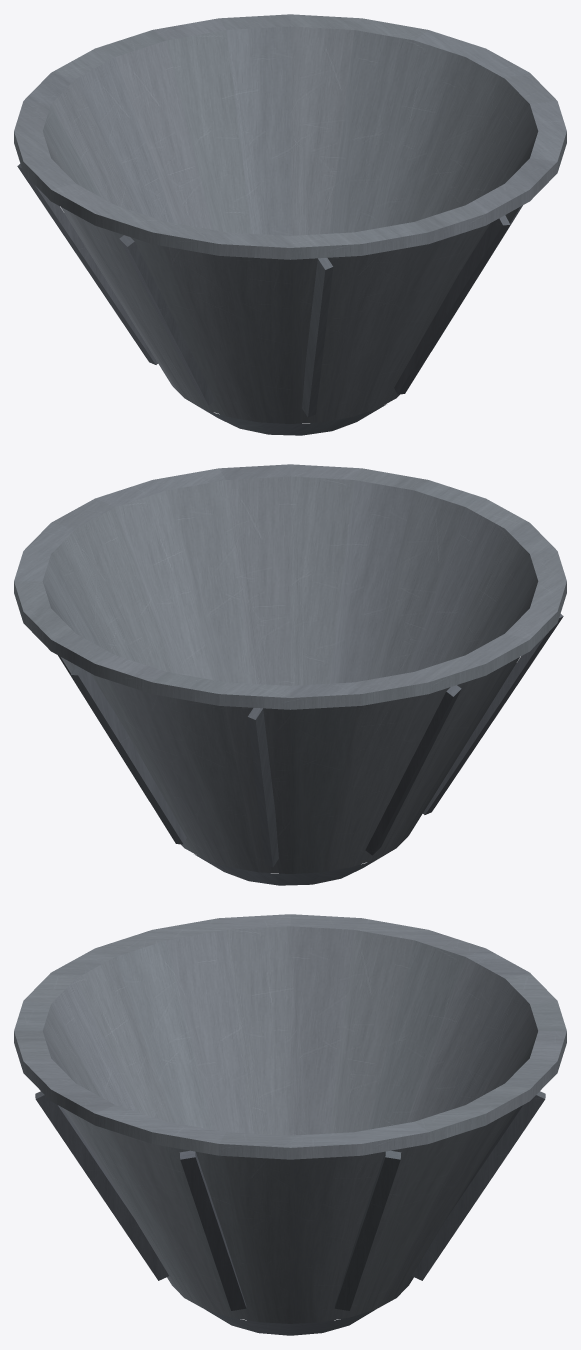
File: hopper.glb
The picture shows the model from 3 angles, top to bottom: view 1: azimuth 30°, elevation 25°; view 2: azimuth 150°, elevation 25°; view 3: azimuth 270°, elevation 25°; orthographic projection.
Visible parts, largest first — view 1: hopper_body; view 2: hopper_body; view 3: hopper_body.
Boxes of the visible parts, x1=… form: hopper_body: x1=14, y1=14, x2=566, y2=435; hopper_body: x1=14, y1=464, x2=566, y2=885; hopper_body: x1=14, y1=914, x2=566, y2=1335.
Bounding box in the file's own units: 2.12 × 1.14 × 2.12.
Materials: 2 (1 with a texture image).
